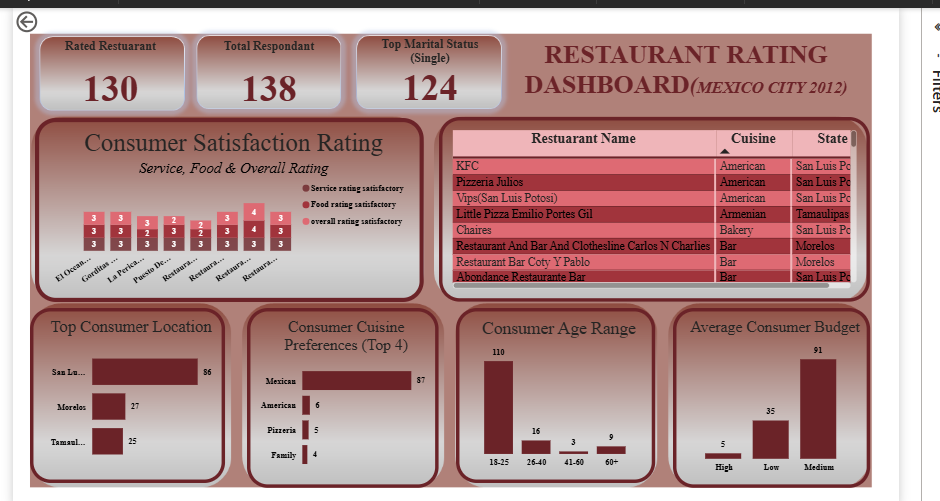

What the dashboard file says about the page in this screenshot:
{"tool":"powerbi","page":{"name":"Page 1","canvas":[1280,720],"ordinal":0},"visuals":[{"type":"columnChart","title":"Consumer Satisfaction Rating","fields":{"Y":["ratings.Service rating satisfactory count","ratings.Food rating satisfactory count","ratings.overall rating satisfactory count"],"Category":["restaurants.Restuarant Display Name"]},"box":[39,167.7,546.5,255.9],"z":0},{"type":"clusteredBarChart","title":"Consumer Cuisine Preferences (Top 4)","fields":{"Category":["consumer_preferences.Preferred_Cuisine"],"Y":["consumer_preferences.Preferred_Cuisine"]},"box":[337.7,433.1,276.9,260],"z":1000},{"type":"clusteredBarChart","title":"Top Consumer Location","fields":{"Category":["consumers.Consumer_ID","consumers.State"],"Y":["consumers.Consumer_ID"]},"box":[24.6,433.7,281.9,253],"z":2000},{"type":"clusteredColumnChart","title":"Average Consumer Budget","fields":{"Category":["consumers.Consumer_ID","consumers.Budget"],"Y":["consumers.Budget"]},"box":[953.8,433.1,285.4,260],"z":3000},{"type":"clusteredColumnChart","title":"Consumer Age Range","fields":{"Category":["consumers.Consumer_ID","consumers.Age Range"],"Y":["consumers.Consumer_ID"]},"box":[640.5,433.7,287.7,253],"z":4000},{"type":"actionButton","box":[0,0,100,40],"z":5000},{"type":"card","title":"Rated Restuarant","fields":{"Values":["restaurants.Restaurant_ID"]},"box":[37.6,46.3,206.7,111.3],"z":6000},{"type":"card","title":"Total Respondant","fields":{"Values":["consumer_preferences.Consumer_ID"]},"box":[270.4,46.3,199.5,111.3],"z":7000},{"type":"card","title":"Top Marital Status (Single)","fields":{"Values":["consumers.count of singles"]},"box":[498.8,43.4,208.2,95.4],"z":8000},{"type":"tableEx","fields":{"Values":["restaurants.Restuarant Display Name","restaurant_cuisines.Cuisine","restaurants.State"]},"box":[615.9,157.6,623.1,267.5],"z":9000},{"type":"textbox","box":[707,40.5,532,117.1],"z":9001}]}

Visuals, with their boxes in screenshot pixels (x1, y1, x2, y2):
"Consumer Satisfaction Rating" columnChart: crop(41, 120, 417, 296)
"Consumer Cuisine Preferences (Top 4)" clusteredBarChart: crop(247, 303, 437, 481)
"Top Consumer Location" clusteredBarChart: crop(32, 303, 225, 477)
"Average Consumer Budget" clusteredColumnChart: crop(670, 303, 866, 481)
"Consumer Age Range" clusteredColumnChart: crop(455, 303, 653, 477)
actionButton: crop(15, 5, 83, 32)
"Rated Restuarant" card: crop(41, 37, 183, 113)
"Total Respondant" card: crop(201, 37, 338, 113)
"Top Marital Status (Single)" card: crop(358, 35, 501, 100)
tableEx - restaurants.Restuarant Display Name x restaurant_cuisines.Cuisine: crop(438, 113, 866, 297)
textbox: crop(501, 33, 866, 113)
